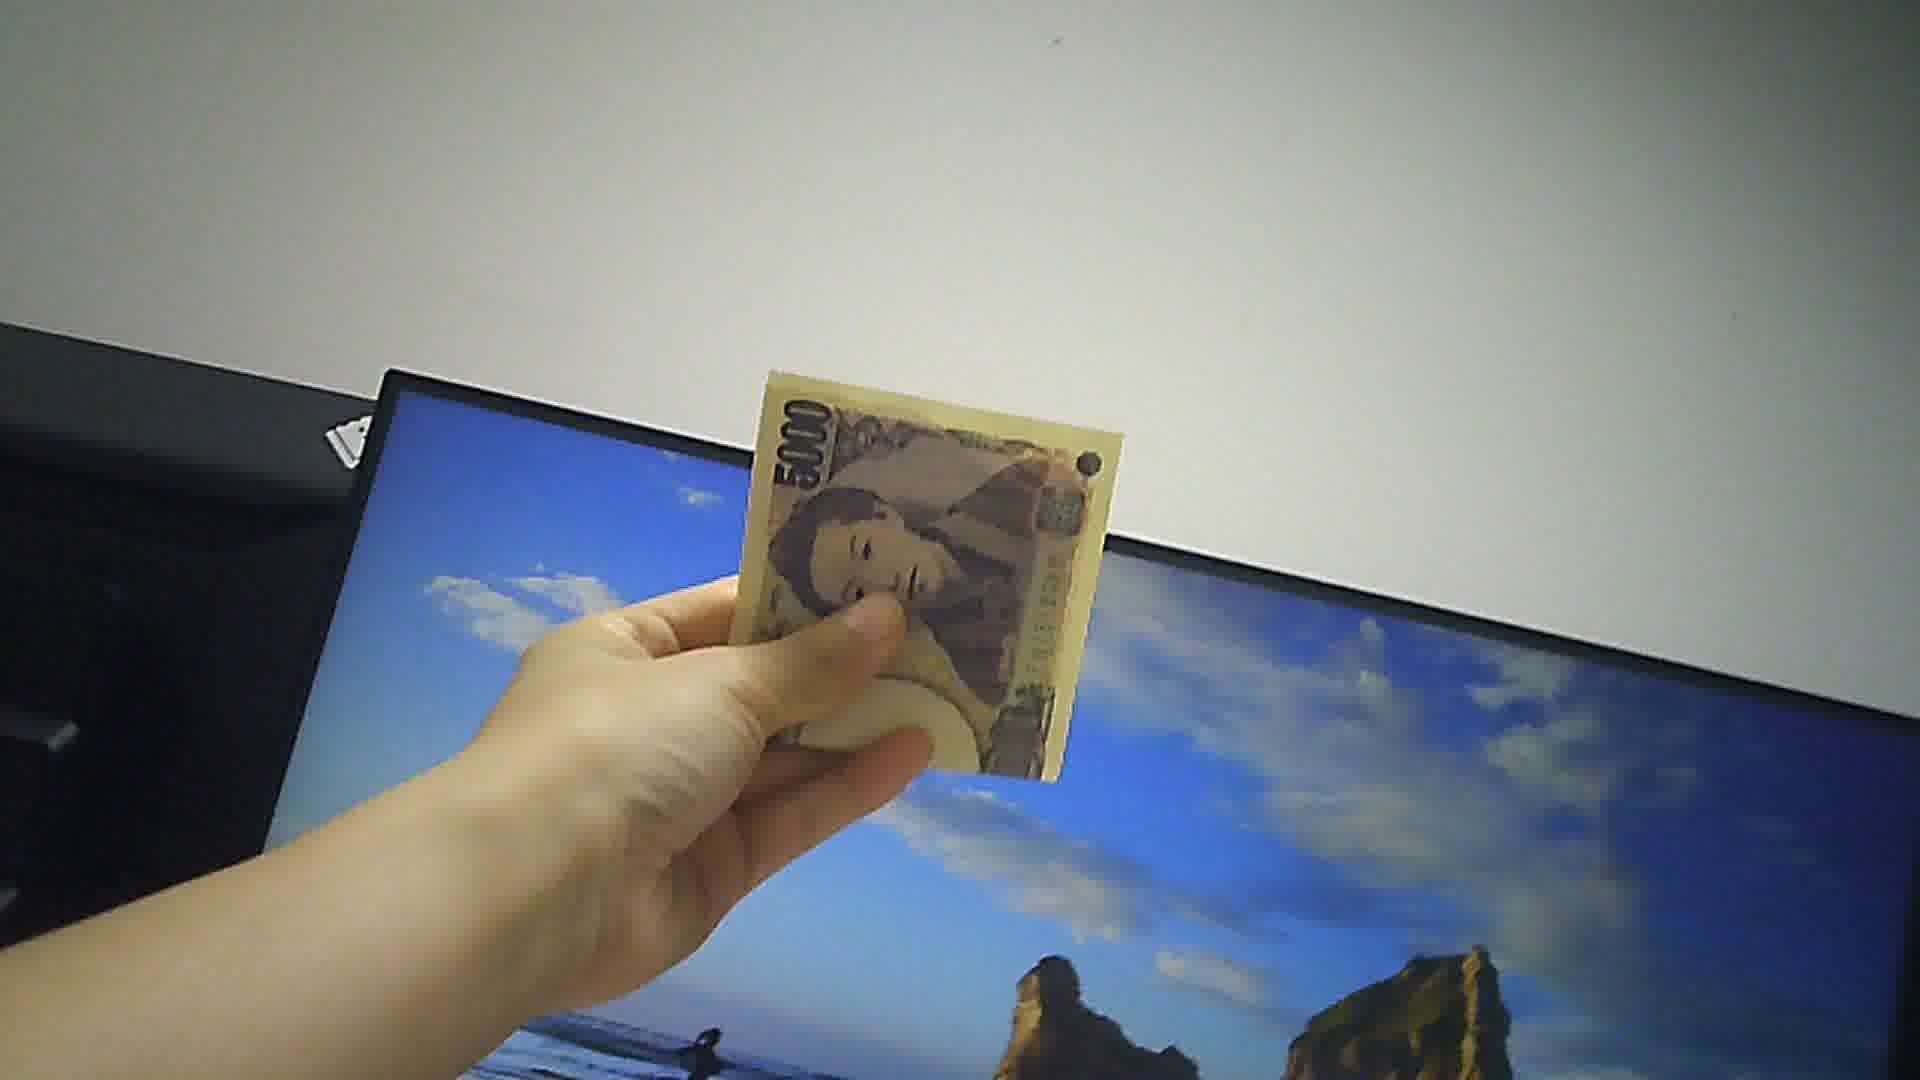5,000 Yen: (711, 355, 1137, 796)
